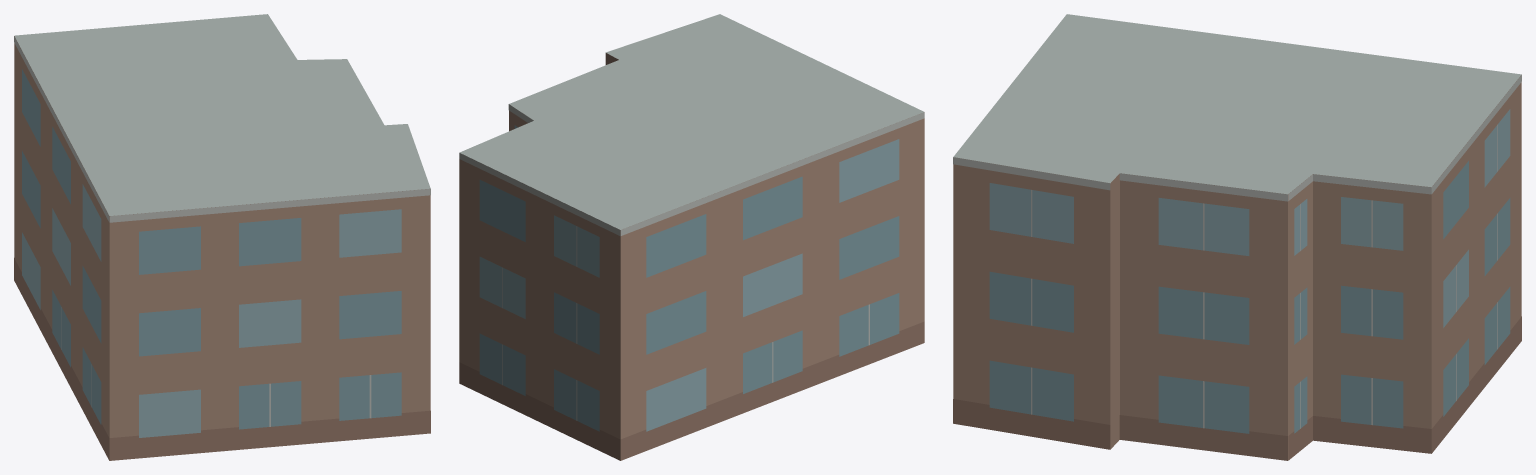
The model's file is survey-upis-32761031.glb.
The picture shows the model from 3 angles, left to right: view 1: azimuth 30°, elevation 25°; view 2: azimuth 150°, elevation 25°; view 3: azimuth 270°, elevation 25°; orthographic projection. The views are drawn at different scales.
Visible parts, largest first — view 1: survey-upis-32761031.tmp; view 2: survey-upis-32761031.tmp; view 3: survey-upis-32761031.tmp.
Part boxes in pixels (bbox=[...]): survey-upis-32761031.tmp: bbox=[14, 14, 430, 460]; survey-upis-32761031.tmp: bbox=[459, 14, 924, 460]; survey-upis-32761031.tmp: bbox=[953, 14, 1521, 460].
Bounding box in the file's own units: 13.07 × 9 × 17.41.
